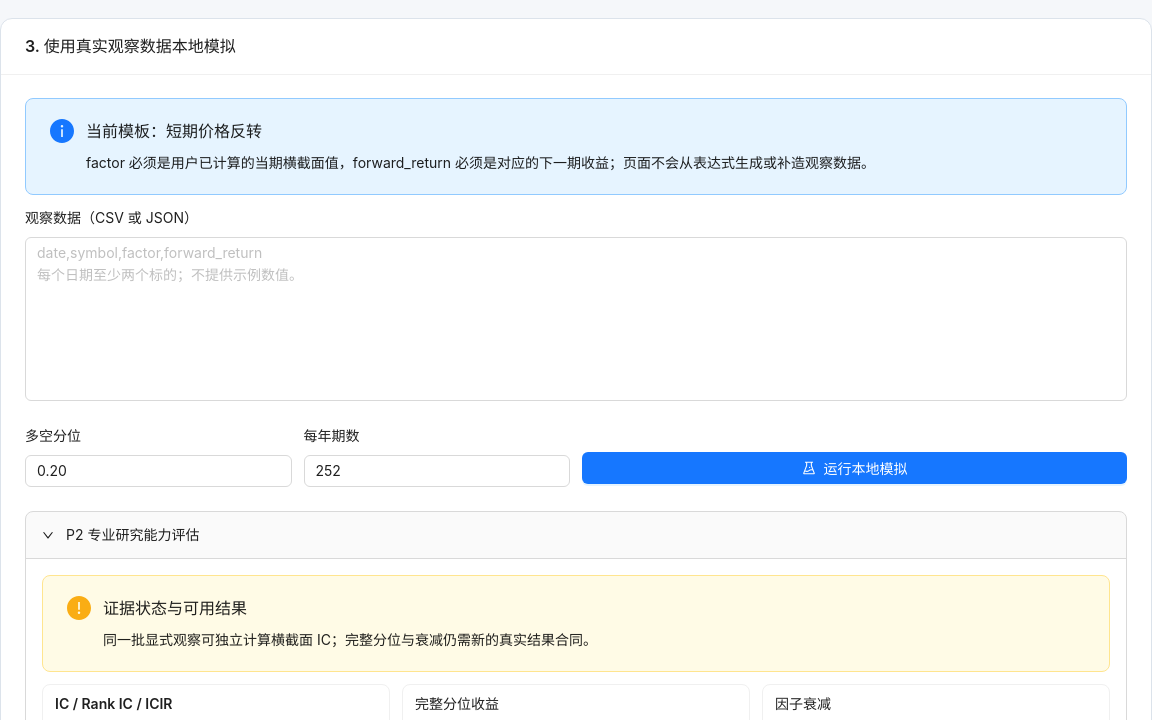
Test: AlphaSimulationWorkbench › shows honest placeholders when the performance sample is insufficient
In the text box named "观察数据": x=576, y=319 x1=25 y1=237 x2=1127 y2=401, type "date,symbol,factor,forward_return 2026-01-02,A,1,-0.02 2026-01-02,B,2,0.02 2026-01-05,A,1,-0.01 2026-01-05,B,2,0.03 2026-01-06,A,1,-0.01 2026-01-06,B,2,0.01"
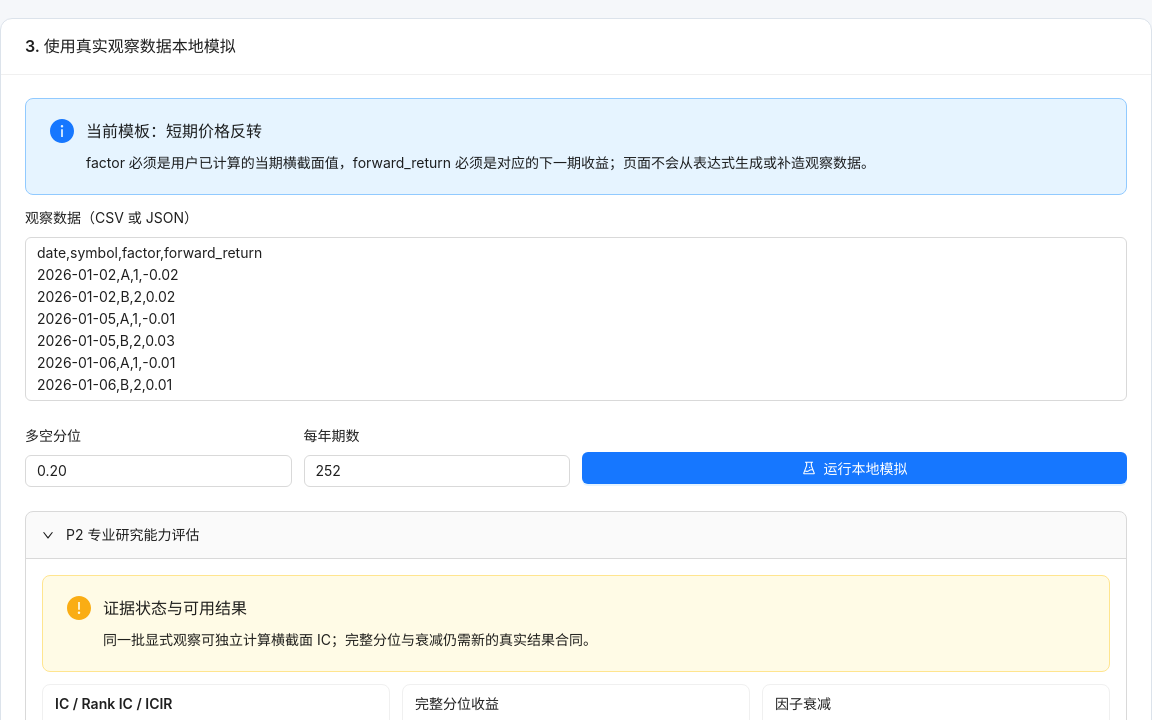
Click the button "运行本地模拟": x=854, y=468 x1=582 y1=452 x2=1127 y2=484
(page scrolled)
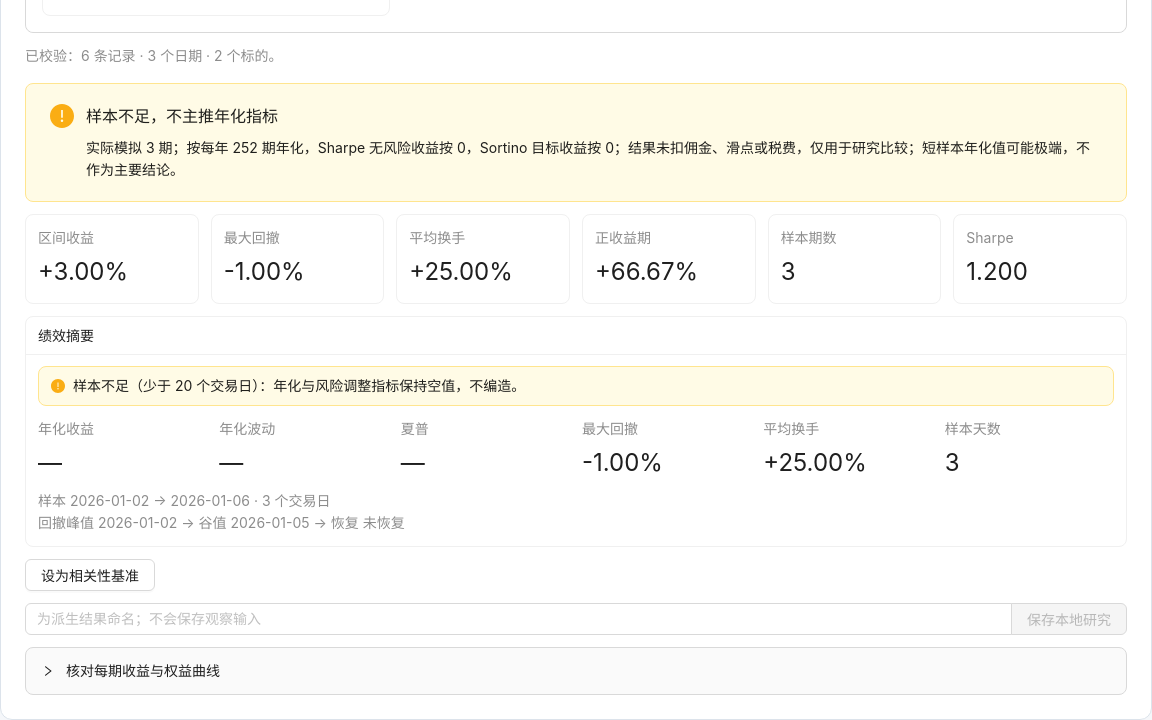
Result: the element with test id "alpha-performance-summary" shows "样本不足（少于 20 个交易日）" at x1=73 y1=377 x2=525 y2=394
Result: the element with test id "alpha-performance-summary" shows "未恢复" at x1=38 y1=514 x2=405 y2=531
